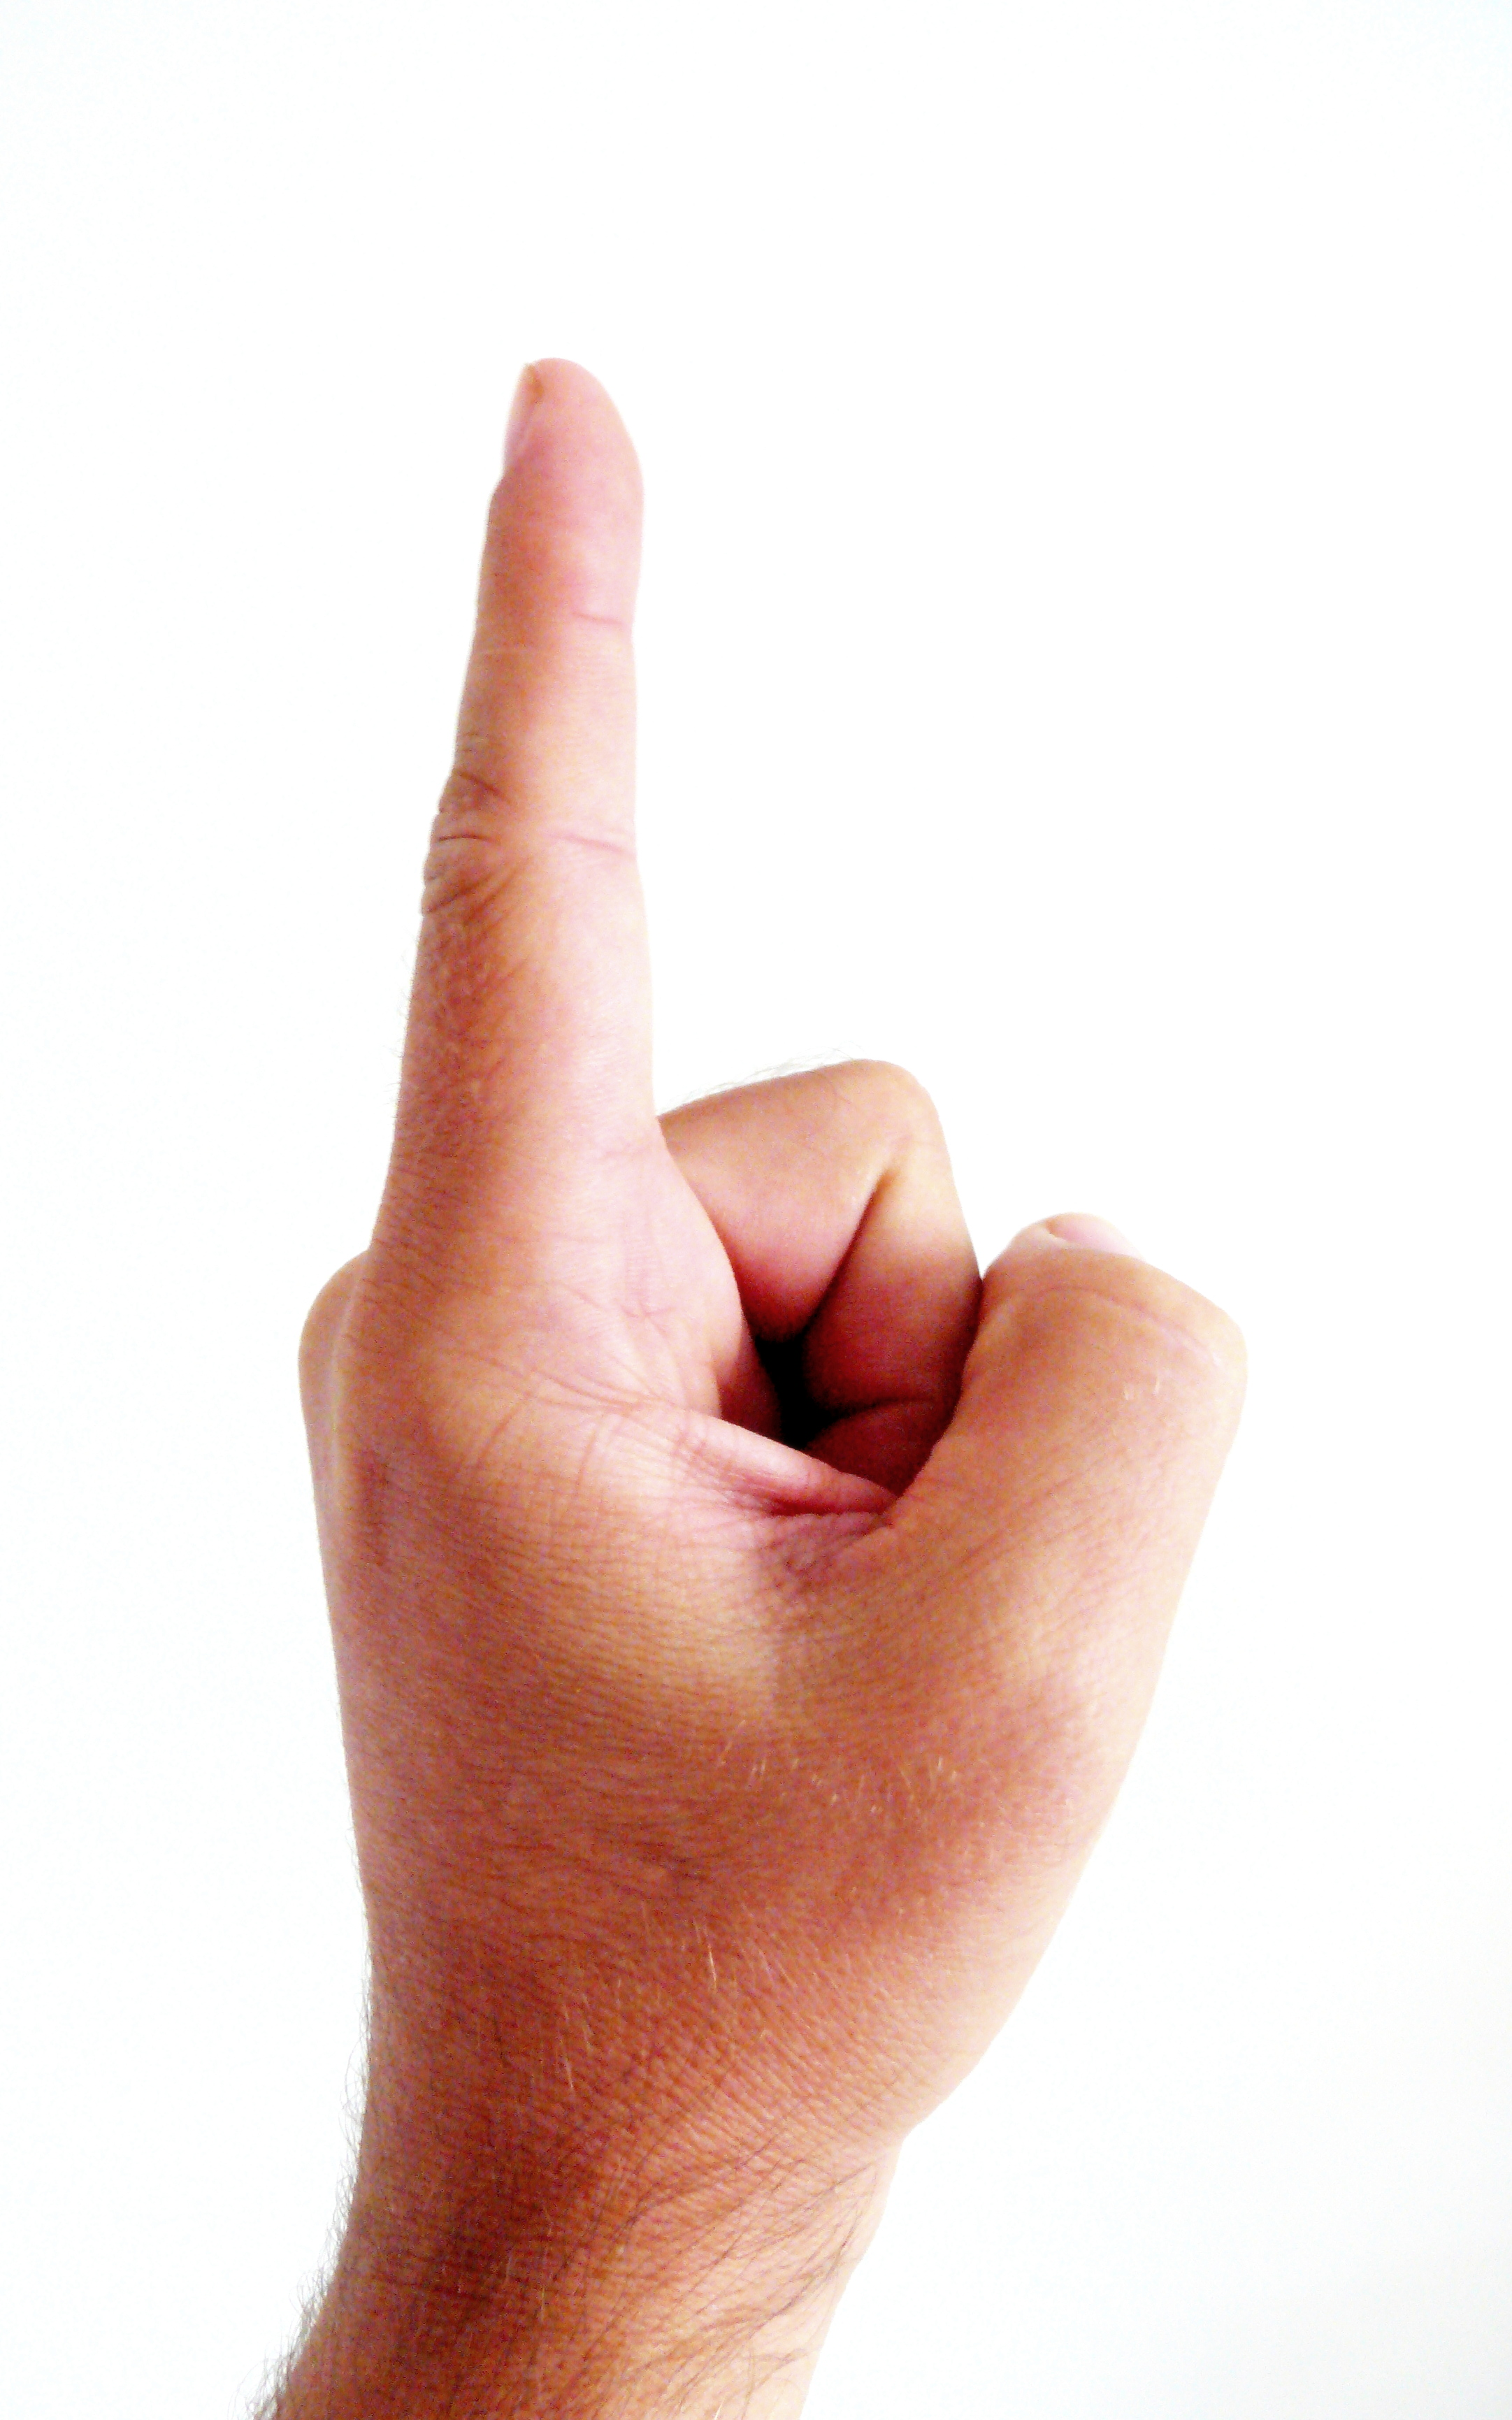move: (298, 353, 1259, 2173)
